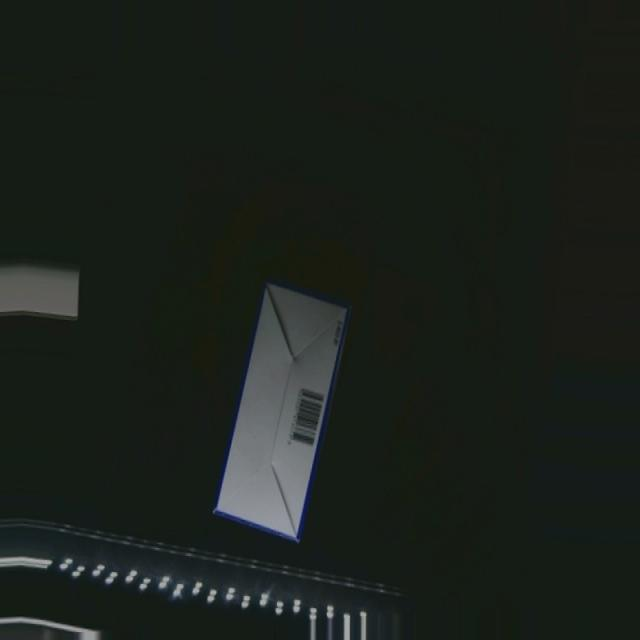prenolol: (212, 281, 352, 545)
